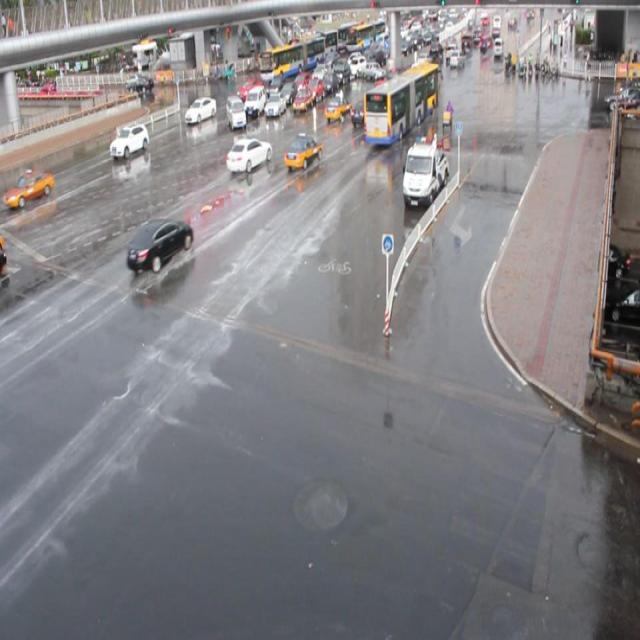bus: (402, 138, 449, 207)
car: (126, 216, 193, 273), (0, 168, 54, 209), (226, 136, 272, 172), (283, 132, 323, 168), (110, 123, 150, 158), (323, 92, 353, 121), (184, 96, 217, 122), (363, 85, 388, 119), (348, 98, 374, 126), (236, 77, 262, 101), (373, 78, 395, 105), (291, 88, 313, 114), (265, 92, 287, 118), (266, 74, 288, 97), (304, 78, 324, 102), (279, 81, 298, 104), (291, 73, 311, 94)
truck: (225, 95, 246, 131), (245, 86, 268, 117)
van: (362, 61, 438, 145)
